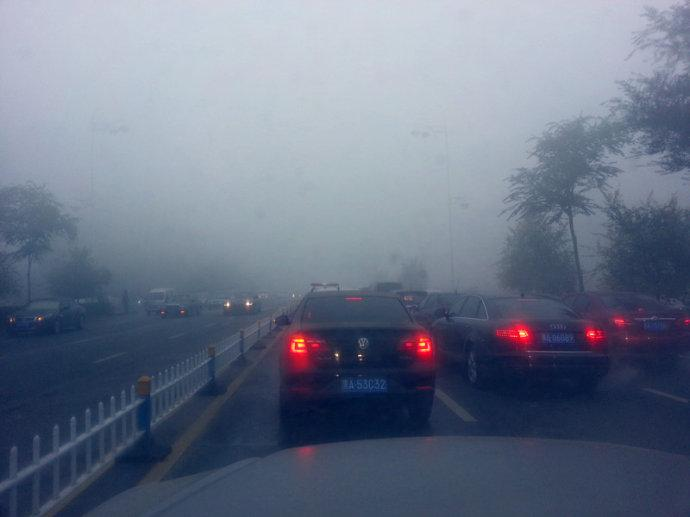car: (273, 288, 435, 420), (422, 289, 611, 387), (557, 283, 690, 361), (8, 297, 87, 335), (359, 282, 404, 314), (391, 289, 427, 325), (160, 293, 203, 318), (222, 291, 263, 316), (144, 288, 176, 315)
